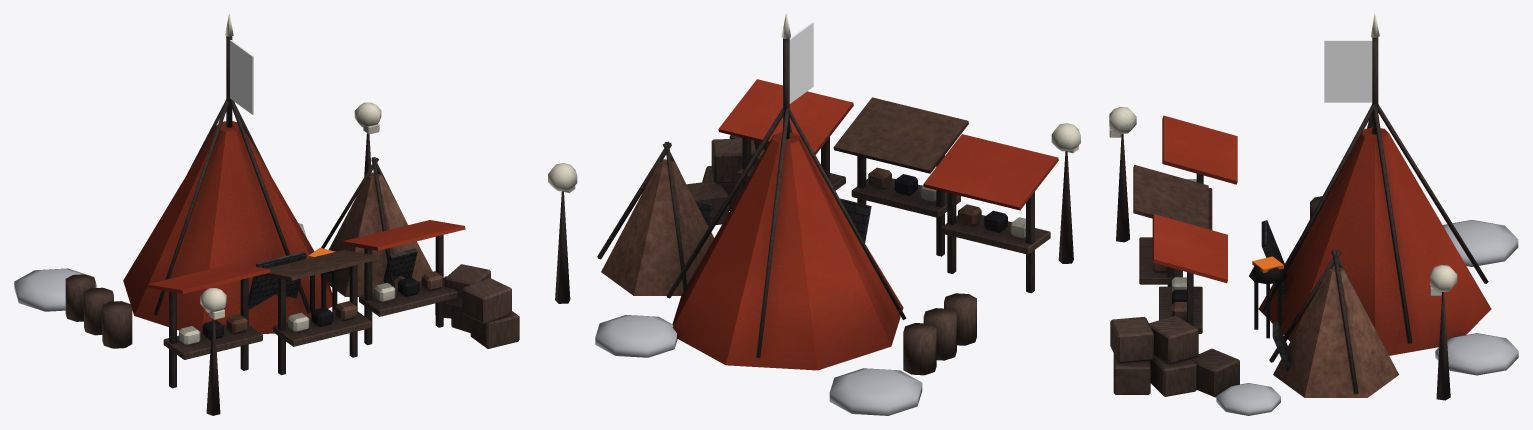
Rendered from asch_market.glb.
The picture shows the model from 3 angles, left to right: view 1: azimuth 30°, elevation 25°; view 2: azimuth 150°, elevation 25°; view 3: azimuth 270°, elevation 25°; orthographic projection. The views are drawn at different scales.
Parts seen in each view (by area): view 1: asch_market, Schnee, Fahne1; view 2: asch_market, Schnee, Fahne1; view 3: asch_market, Schnee, Fahne1.
Part boxes in pixels (box(x1,y1,x2,y2)): asch_market: box(65, 14, 519, 415); Schnee: box(14, 223, 306, 311); Fahne1: box(230, 40, 253, 114); asch_market: box(548, 14, 1080, 375); Schnee: box(595, 315, 922, 415); Fahne1: box(789, 22, 813, 103); asch_market: box(1109, 14, 1491, 400); Schnee: box(1216, 220, 1518, 415); Fahne1: box(1324, 40, 1372, 102).
Size of the model in its own units: 4.61 by 3.5 by 4.21.
3 materials, 1 textured.
